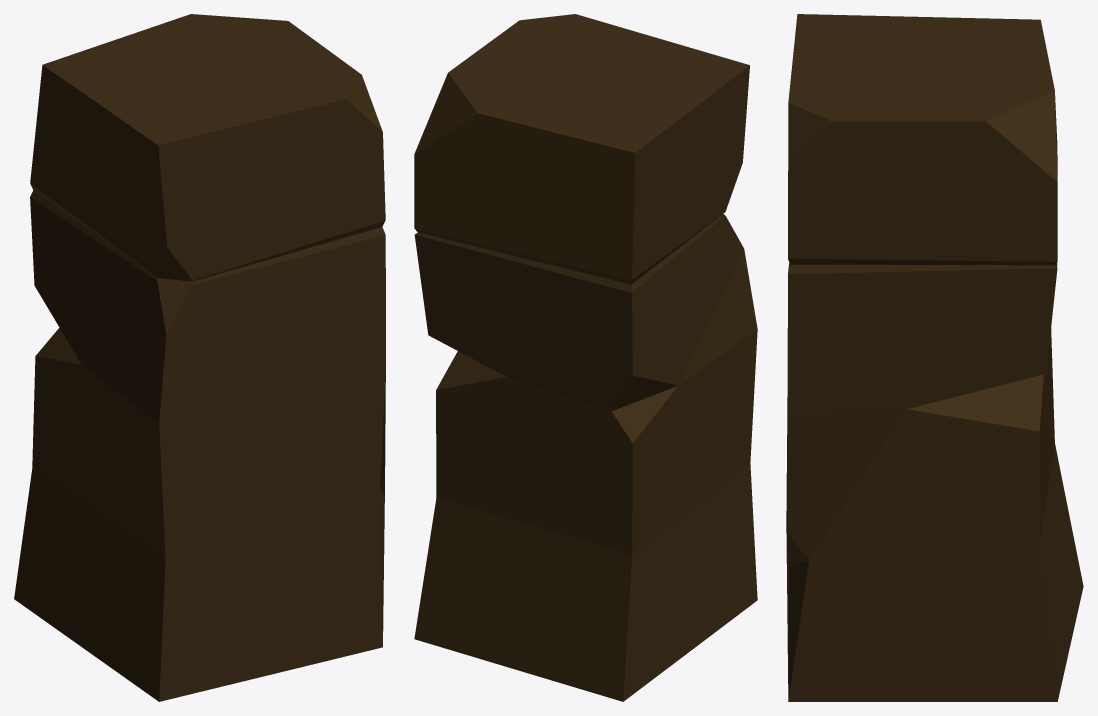
Rendered from Pillar2.fbx.
3 renders of one model, left to right at view 1: azimuth 30°, elevation 25°; view 2: azimuth 150°, elevation 25°; view 3: azimuth 270°, elevation 25°, orthographic. The views are drawn at different scales.
Parts seen in each view (by area): view 1: 立方体.004; view 2: 立方体.004; view 3: 立方体.004.
Boxes of the visible parts, x1=… form: 立方体.004: x1=14, y1=14, x2=385, y2=701; 立方体.004: x1=414, y1=14, x2=757, y2=701; 立方体.004: x1=786, y1=14, x2=1083, y2=701.
Bounding box in the file's own units: 2.14 × 4.76 × 2.21.
